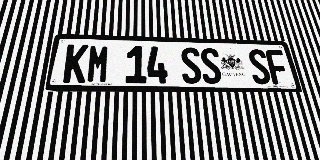1: (125, 46, 147, 83)
4: (147, 46, 168, 84)
F: (265, 50, 291, 84)
K: (62, 44, 89, 83)
M: (86, 45, 110, 83)
S: (247, 49, 272, 84), (199, 48, 223, 84), (180, 47, 203, 84)
